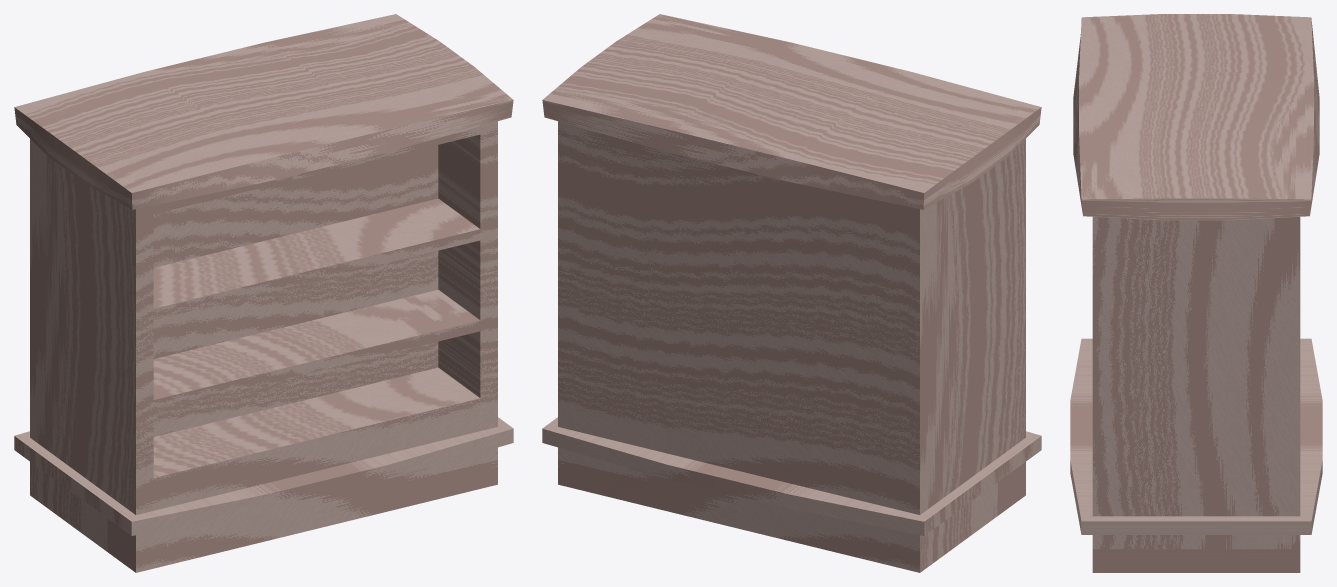
Rendered from bookcase_empty_old.fbx.
The picture shows the model from 3 angles, left to right: view 1: azimuth 30°, elevation 25°; view 2: azimuth 150°, elevation 25°; view 3: azimuth 270°, elevation 25°; orthographic projection. The views are drawn at different scales.
Parts seen in each view (by area): view 1: bookshelf_old_text:pCube1; view 2: bookshelf_old_text:pCube1; view 3: bookshelf_old_text:pCube1.
Boxes of the visible parts, x1,y1,x2,y2 form: bookshelf_old_text:pCube1: [14, 14, 513, 572]; bookshelf_old_text:pCube1: [542, 14, 1041, 572]; bookshelf_old_text:pCube1: [1070, 14, 1322, 572].
Bounding box in the file's own units: 2.13 × 2.03 × 1.2.
1 material, 1 textured.
